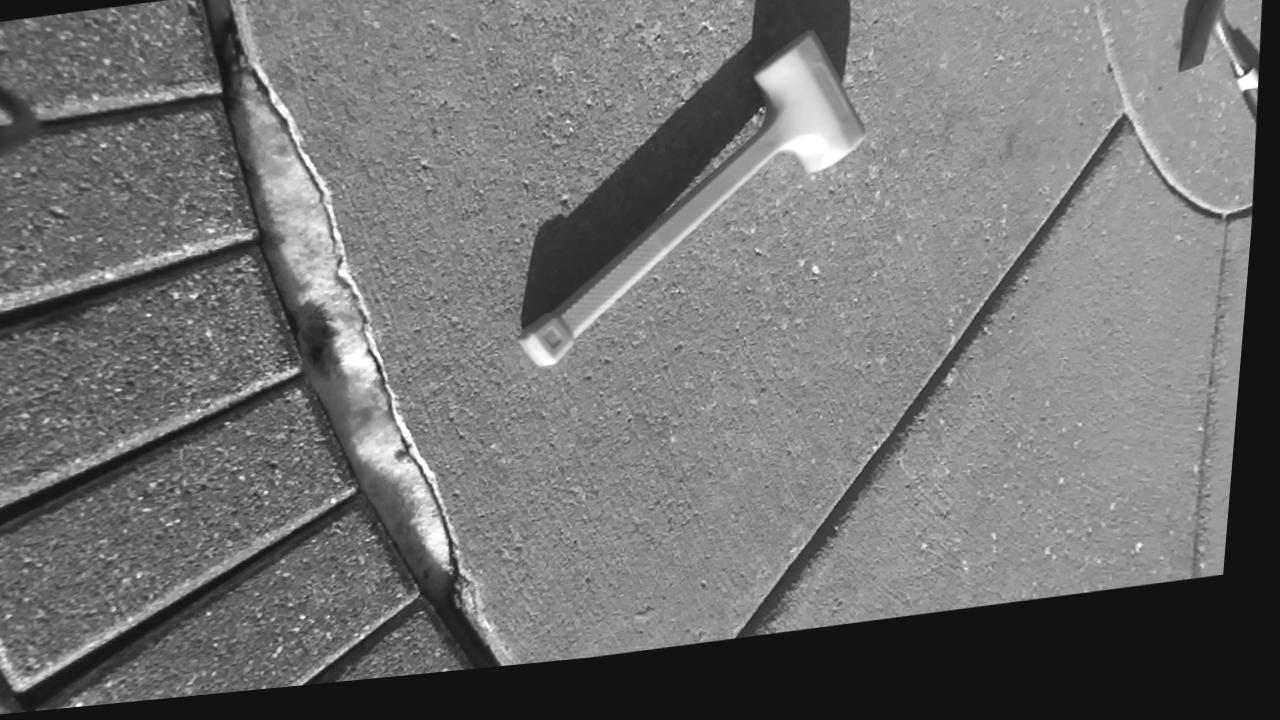mallet: (520, 32, 864, 365)
